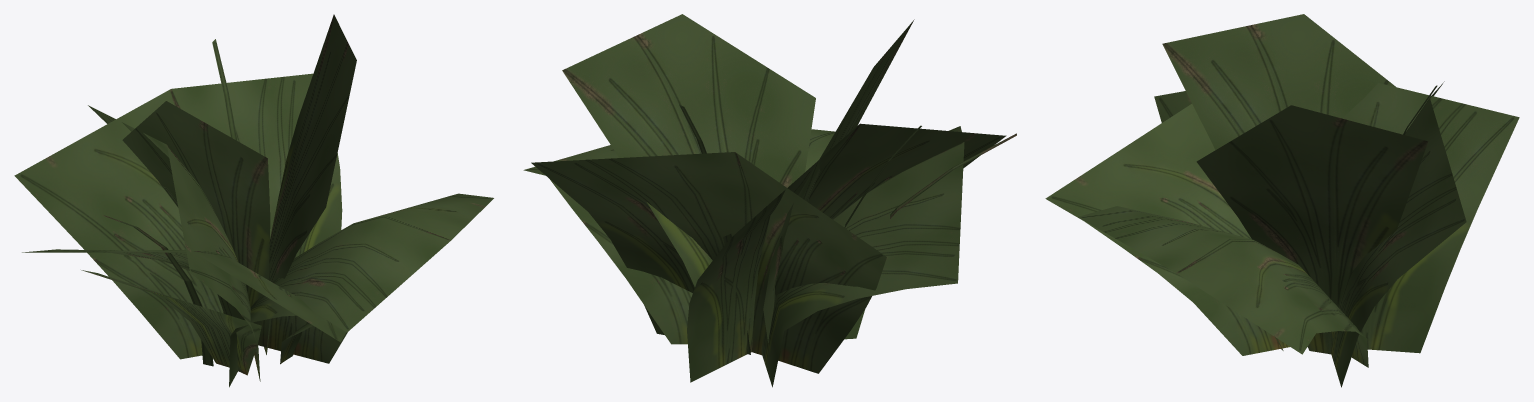
The model's file is SM_TallGrass_Clump1.fbx.
The picture shows the model from 3 angles, left to right: view 1: azimuth 30°, elevation 25°; view 2: azimuth 150°, elevation 25°; view 3: azimuth 270°, elevation 25°; orthographic projection. The views are drawn at different scales.
Visible parts, largest first — view 1: SM_TallGrass_Clump1; view 2: SM_TallGrass_Clump1; view 3: SM_TallGrass_Clump1.
Boxes of the visible parts, x1=… form: SM_TallGrass_Clump1: x1=14, y1=14, x2=493, y2=387; SM_TallGrass_Clump1: x1=523, y1=14, x2=1016, y2=387; SM_TallGrass_Clump1: x1=1045, y1=14, x2=1519, y2=387.
Size of the model in its own units: 280 by 258 by 172.
